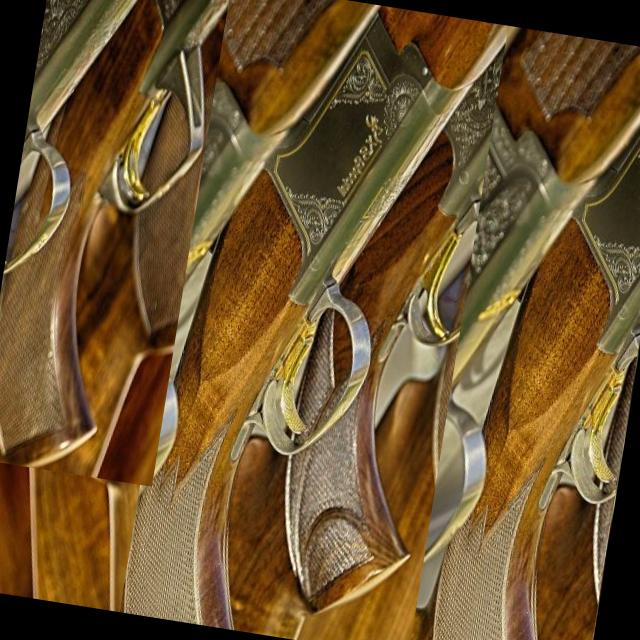Gun: (125, 7, 508, 629), (252, 29, 640, 640), (0, 0, 229, 467), (137, 0, 294, 596)
